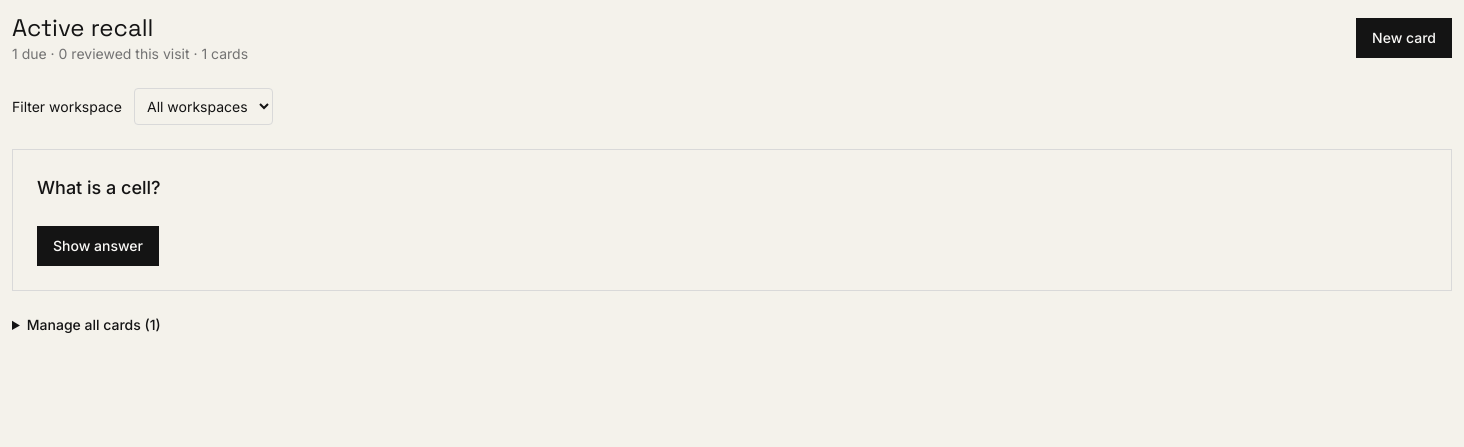
it: Study workflows › hides the answer until revealed and records a revision-checked review
Expected: the heading "What is a cell?" is shown, [37,177,161,198]
Expected: the text "Basic unit of life" is not shown
What coordinates should you click on to do the following:
click the button "Show answer"
I would click on:
 (98, 246)
Its box is [37,226,159,266].
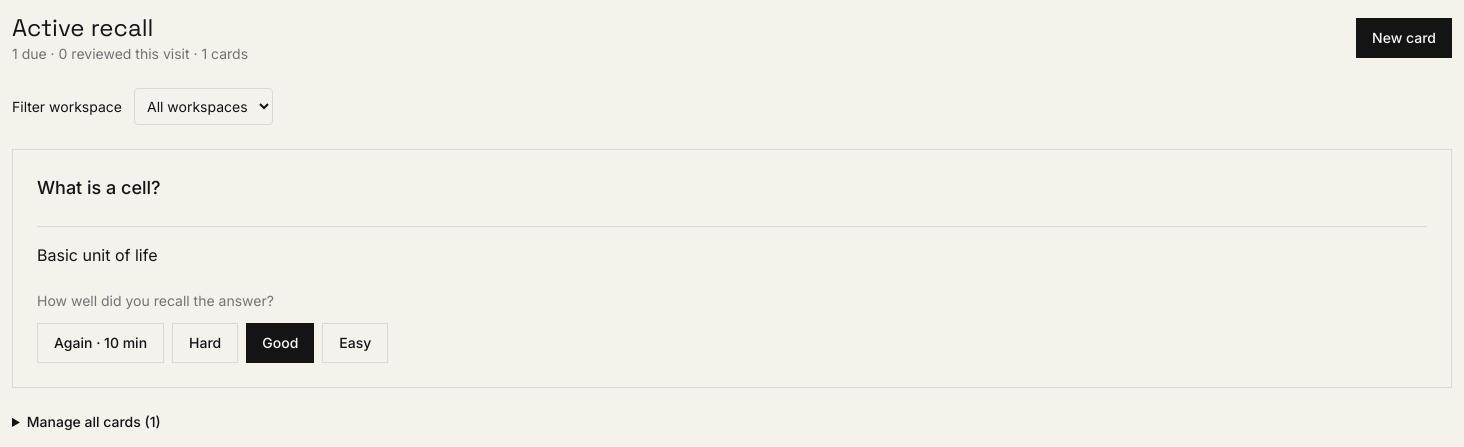
Now the text "Basic unit of life" is shown, box [37,226,1427,267]
What coordinates should you click on to do the following:
click the button "Good"
I would click on:
 (280, 343)
Its box is [246,323,314,363].
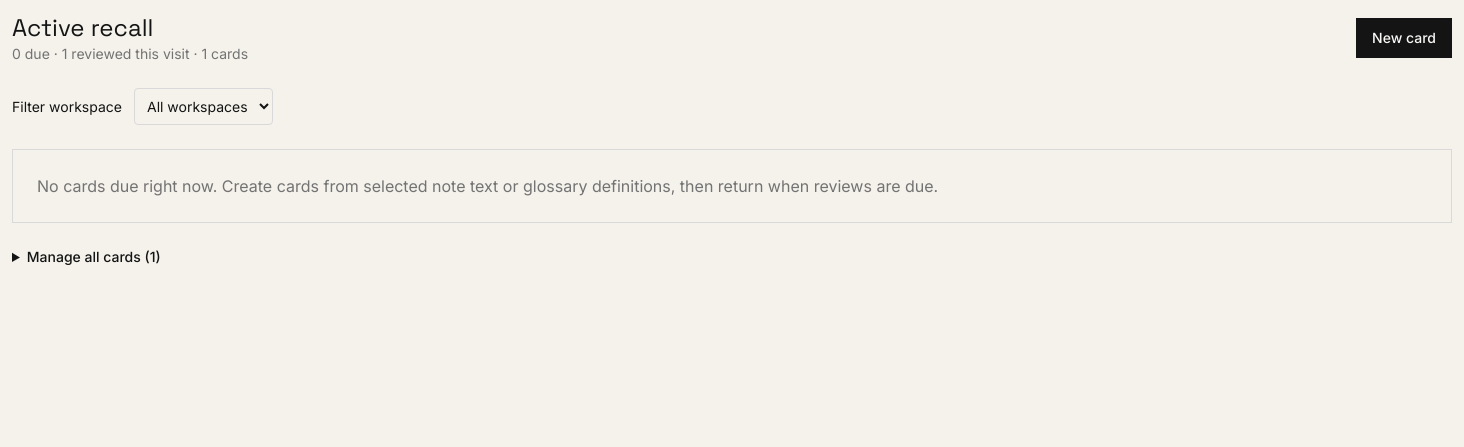
Now the text "No cards due right now" is shown, box [37,176,938,196]
